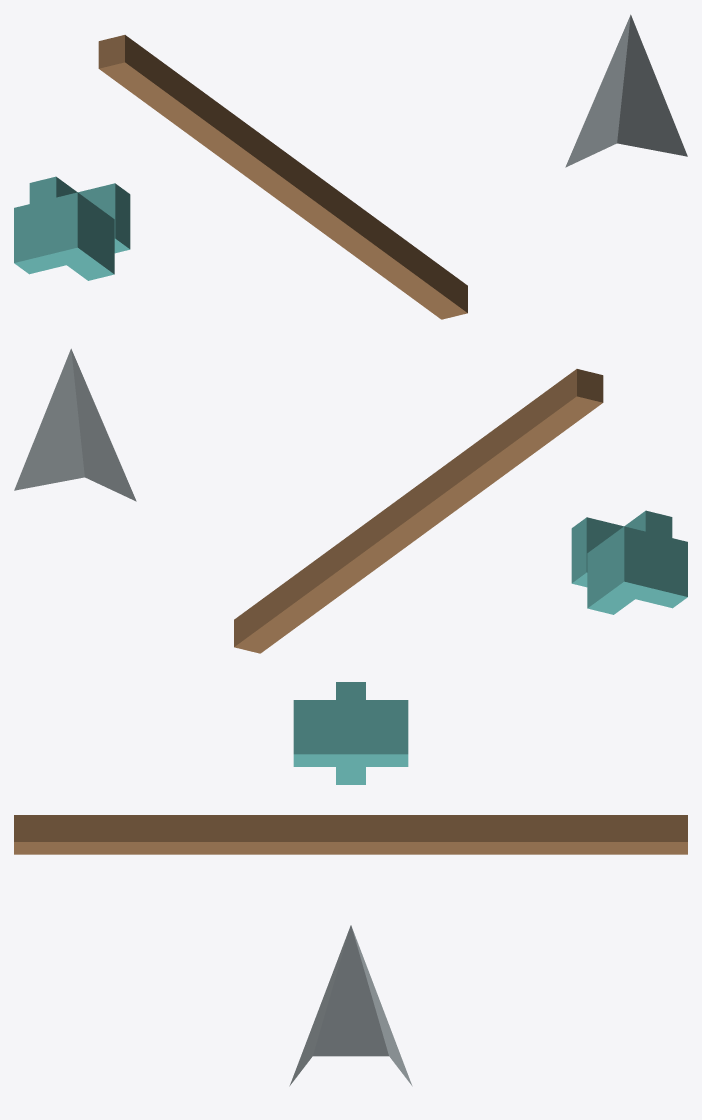
File: projectile_archer_arrow.glb
3 renders of one model, top to bottom at view 1: azimuth 30°, elevation 25°; view 2: azimuth 150°, elevation 25°; view 3: azimuth 270°, elevation 25°, orthographic.
Parts seen in each view (by area): view 1: shaft, arrowhead, fletching_0, fletching_15, fletching_31; view 2: shaft, arrowhead, fletching_0, fletching_15, fletching_31; view 3: shaft, fletching_15, arrowhead, fletching_0.
Boxes of the visible parts, box(x1,y1,x2,y2) form: shaft: box(98, 35, 467, 319); arrowhead: box(565, 14, 687, 167); fletching_0: box(14, 183, 130, 274); fletching_15: box(29, 176, 114, 280); fletching_31: box(14, 183, 130, 273); shaft: box(234, 369, 603, 653); arrowhead: box(14, 348, 136, 501); fletching_0: box(571, 517, 687, 608); fletching_15: box(587, 510, 672, 614); fletching_31: box(571, 517, 687, 606); shaft: box(14, 815, 687, 854); fletching_15: box(293, 700, 408, 766); arrowhead: box(289, 925, 412, 1086); fletching_0: box(336, 682, 365, 784).
Size of the model in its own units: 1.52 by 0.34 by 1.35.
